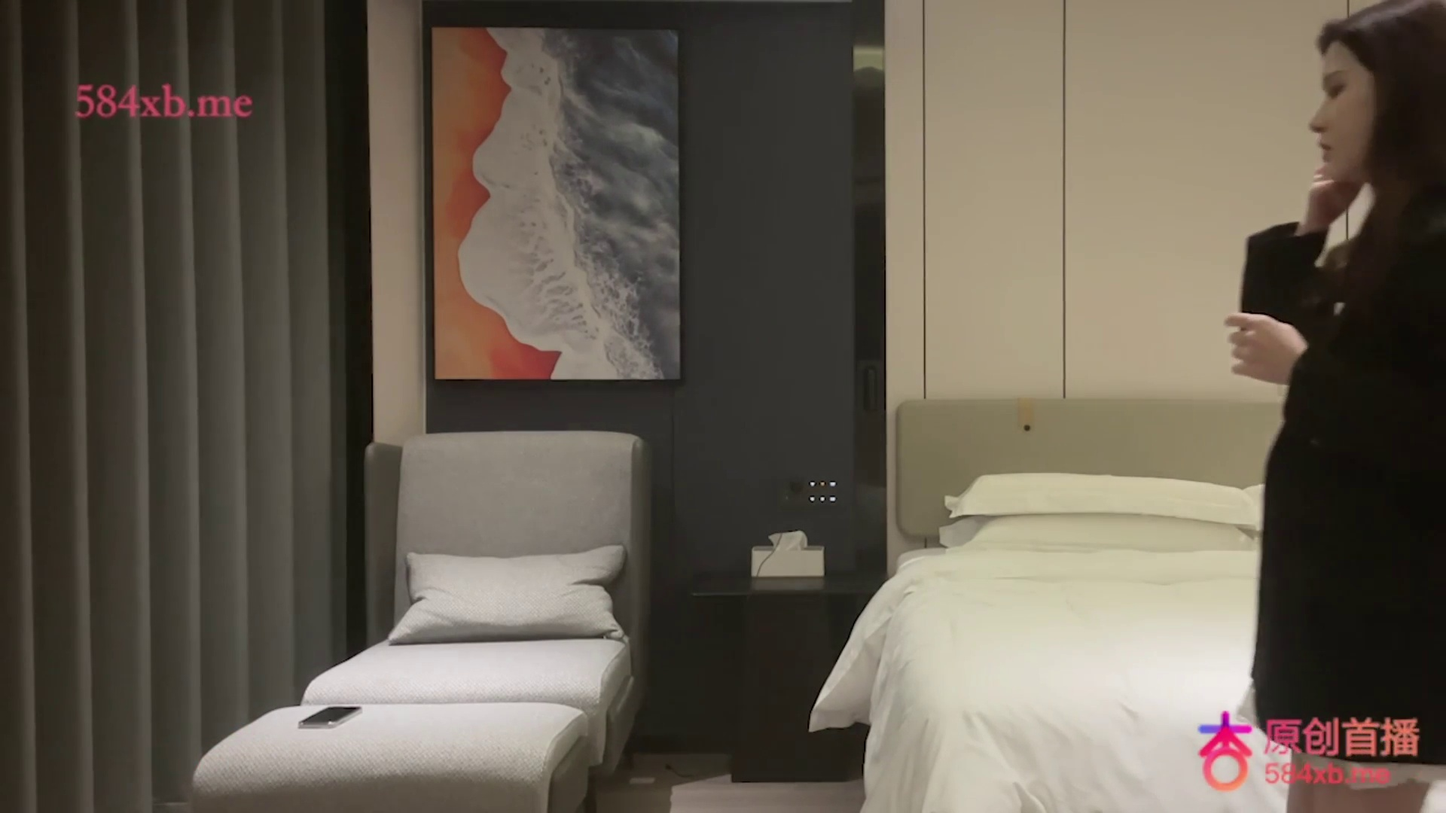stand: (1225, 1, 1445, 805)
